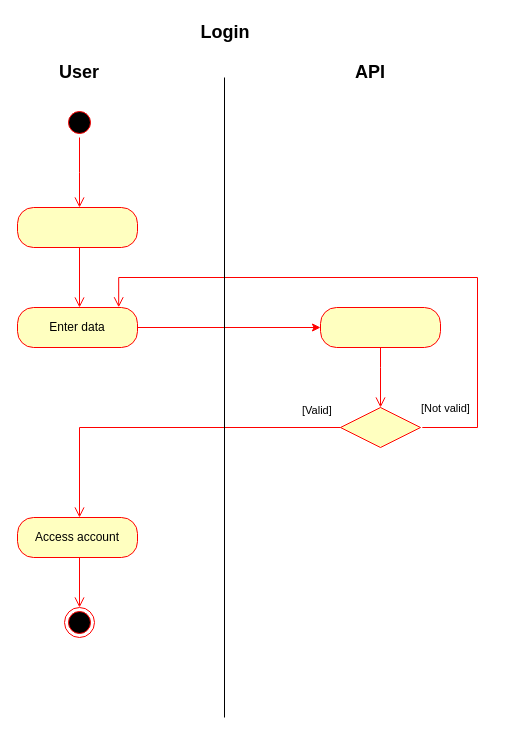
This 505x736 diagram has some shape labels left out. Here are the shapes that lost their labels. From the top down, the centre of each, then its label:
the point at 77,227: Display dashboard
the point at 380,327: Check username & PWD
